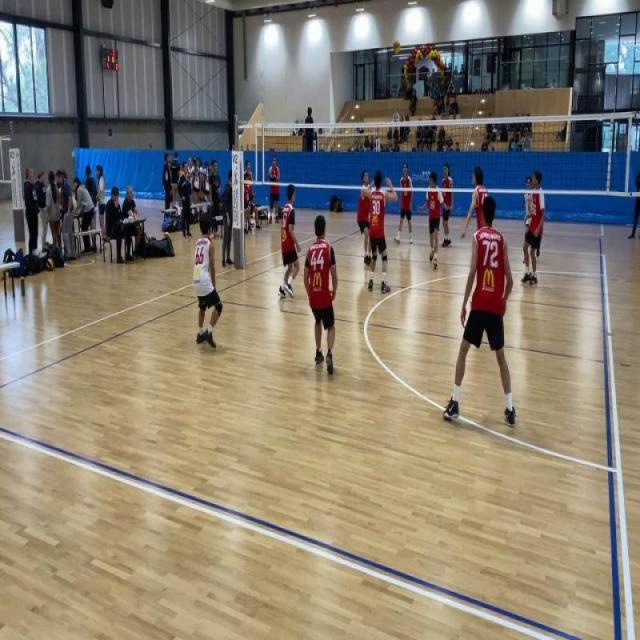volleyball: (392, 38, 401, 56), (46, 257, 54, 271), (59, 203, 63, 214), (163, 232, 170, 238), (148, 233, 153, 240)
